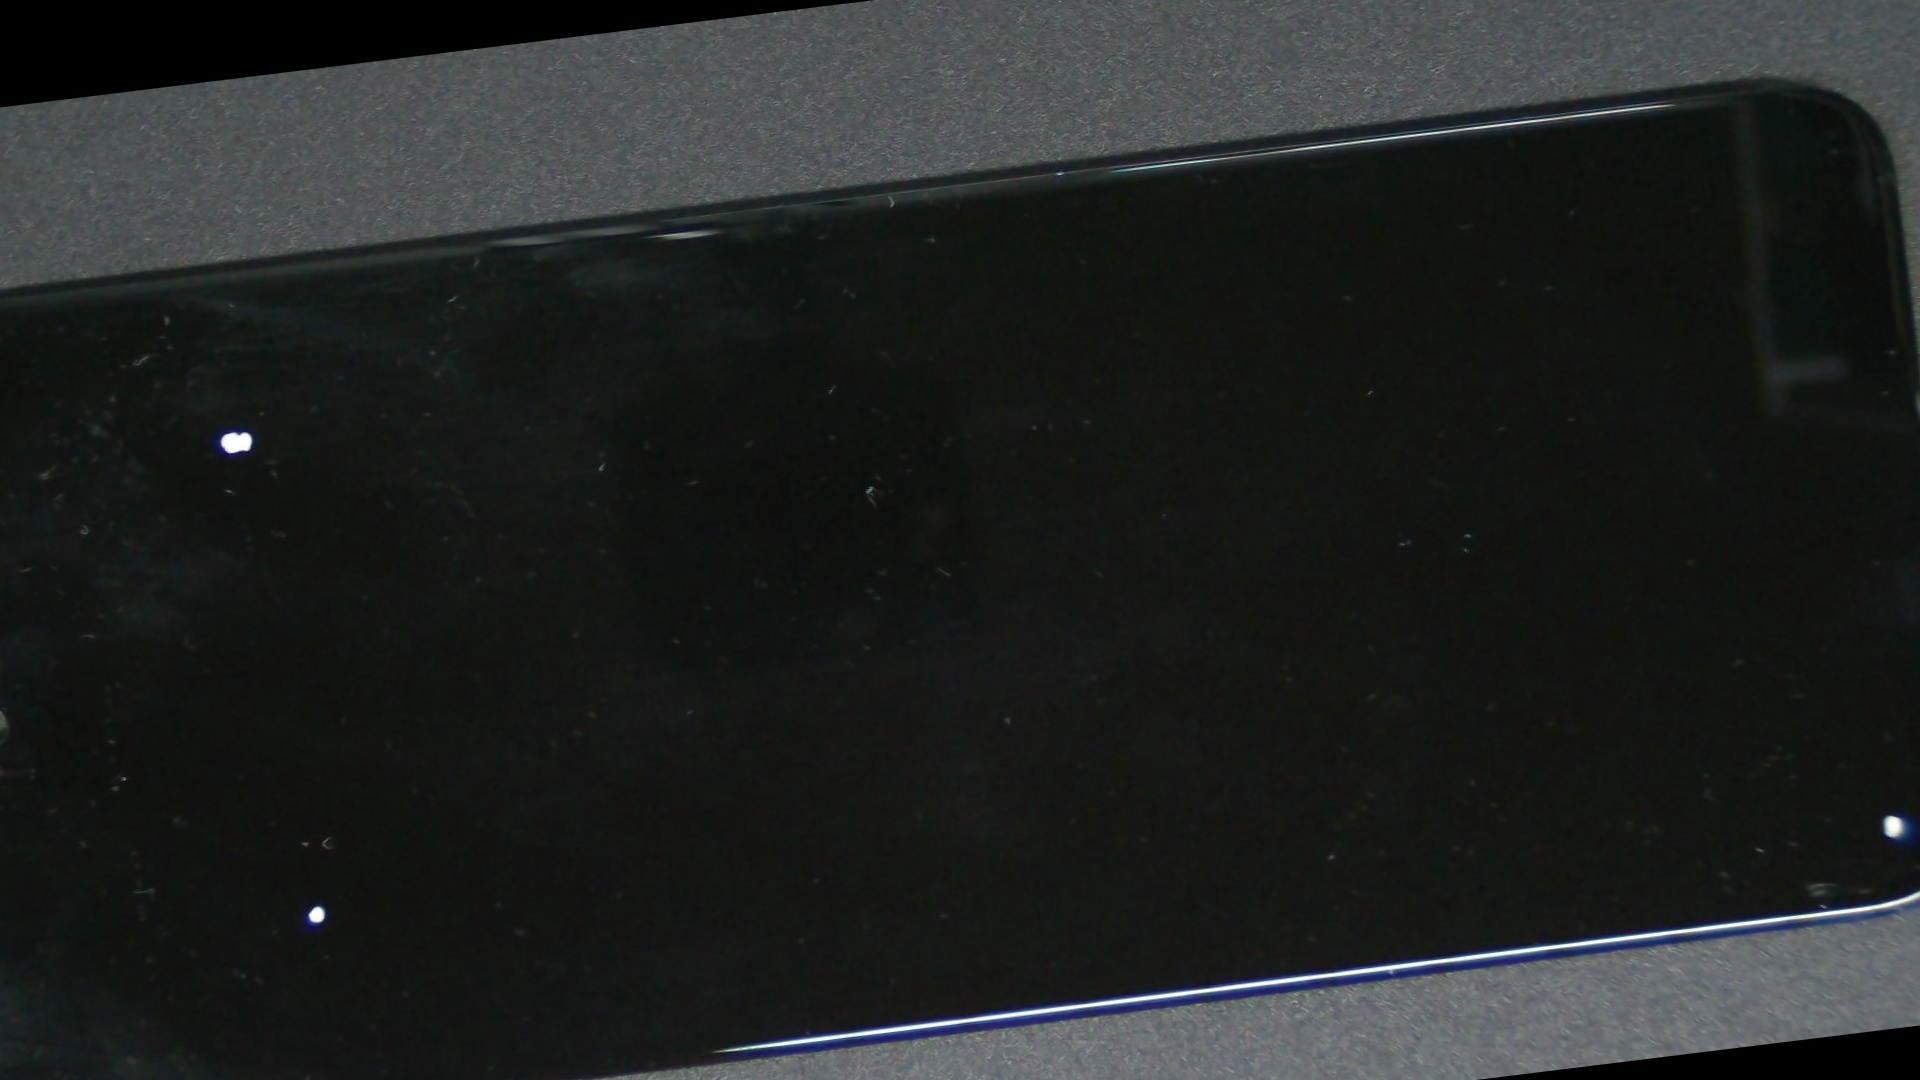oil: (803, 327, 1920, 1080), (20, 462, 603, 1080), (0, 229, 476, 636)
